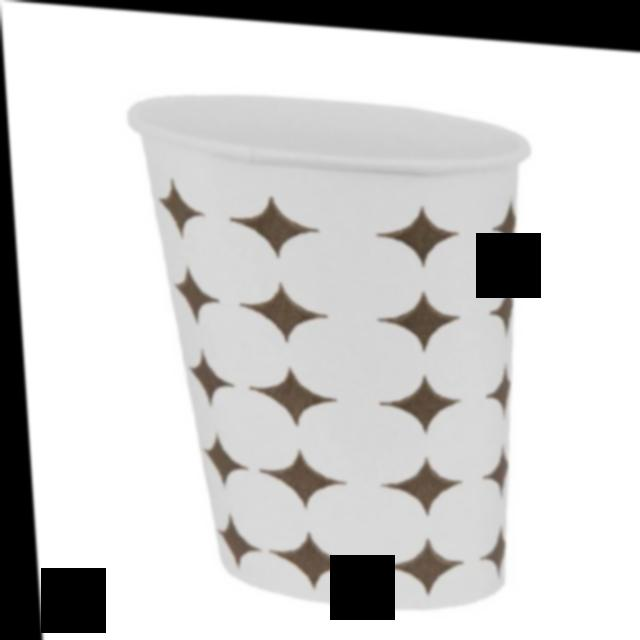karton-bardak: (112, 60, 586, 625)
